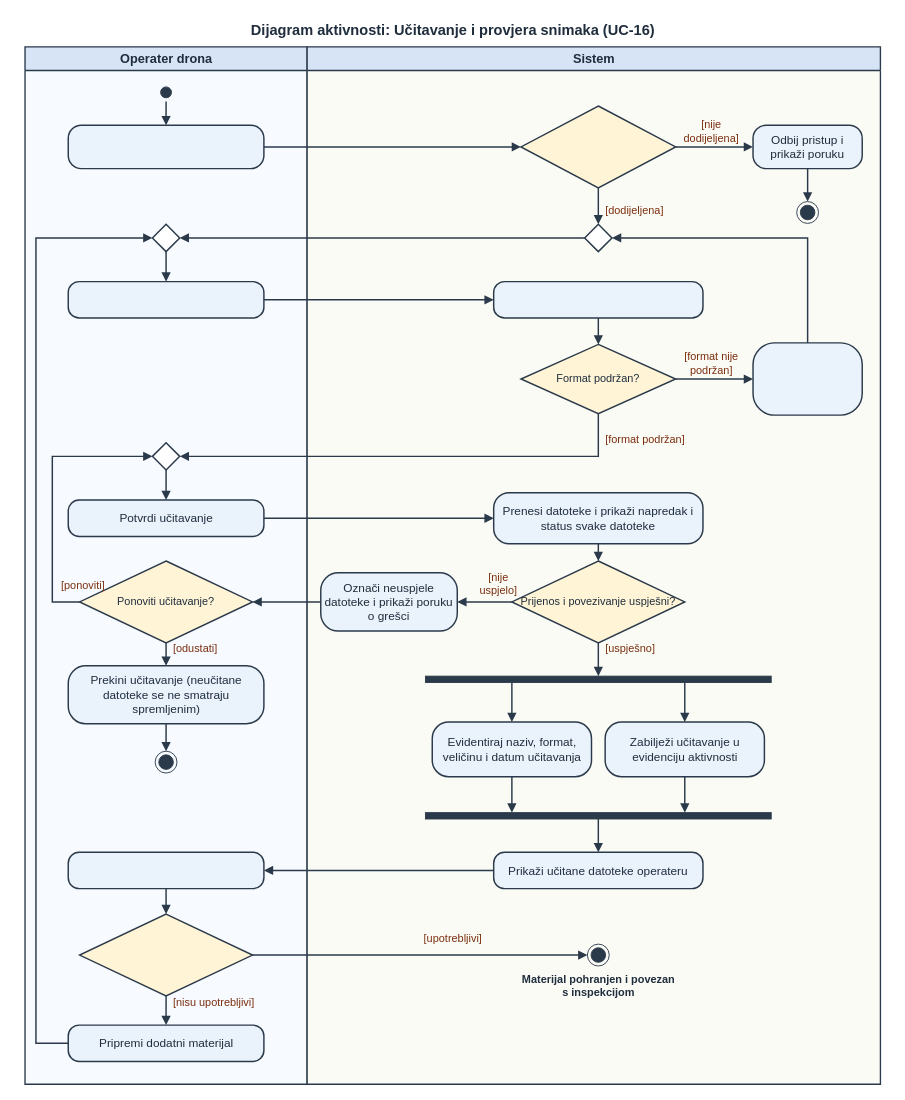
This 905x1100 diagram has some shape labels left out. Here are the shapes that lost their labels. From the top down, the centre of each, then its label:
At (x=165, y=146): "Otvori dodijeljenu inspekciju i odaberi „Učitaj materijal“".
At (x=598, y=146): "Inspekcija dodijeljena operateru?".
At (x=165, y=299): "Odaberi fotografije i videozapise".
At (x=597, y=299): "Provjeri format odabranih datoteka".
At (x=807, y=378): "Odbij datoteku i prikaži poruku o nepodržanom formatu".
At (x=165, y=870): "Pregledaj učitane snimke".
At (x=165, y=954): "Snimci upotrebljivi?".
